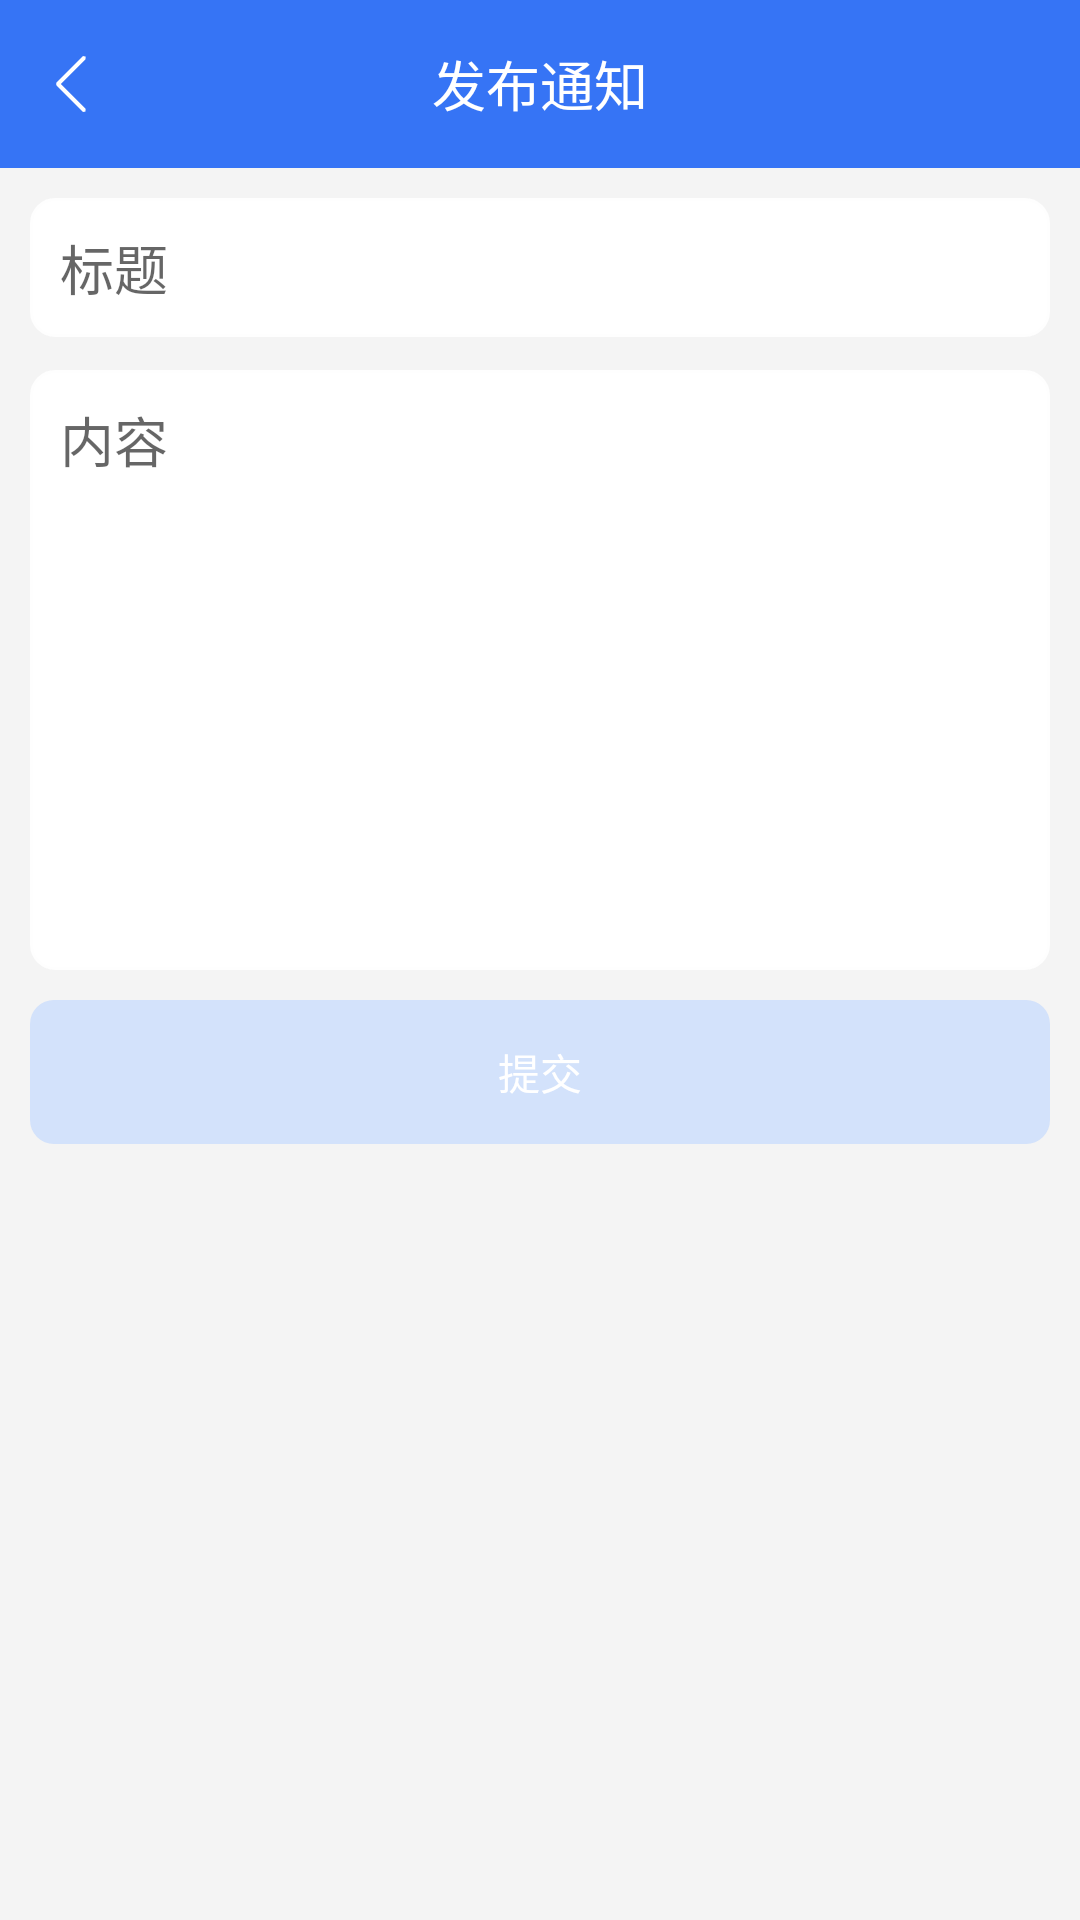

Screen size 1080x1920. Icon name, then its center in pixels as [x,y]:
back: [71,84]
